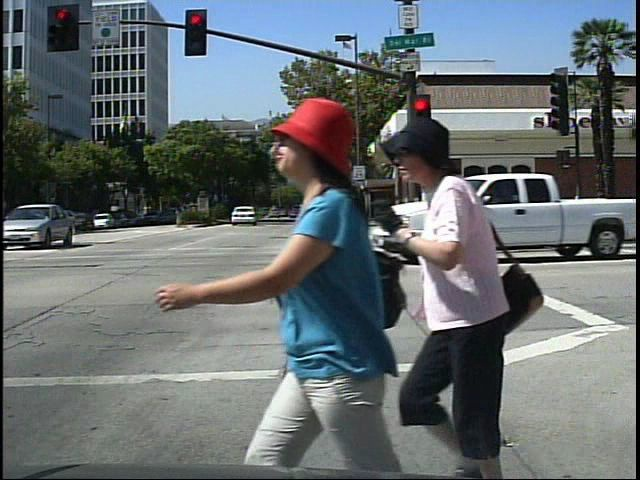person: (173, 63, 408, 476), (390, 117, 553, 480)
